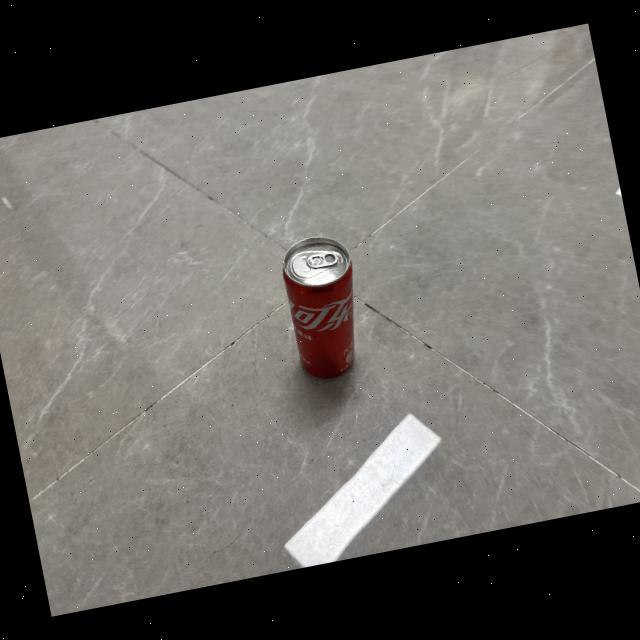Cola: (271, 228, 377, 392)
